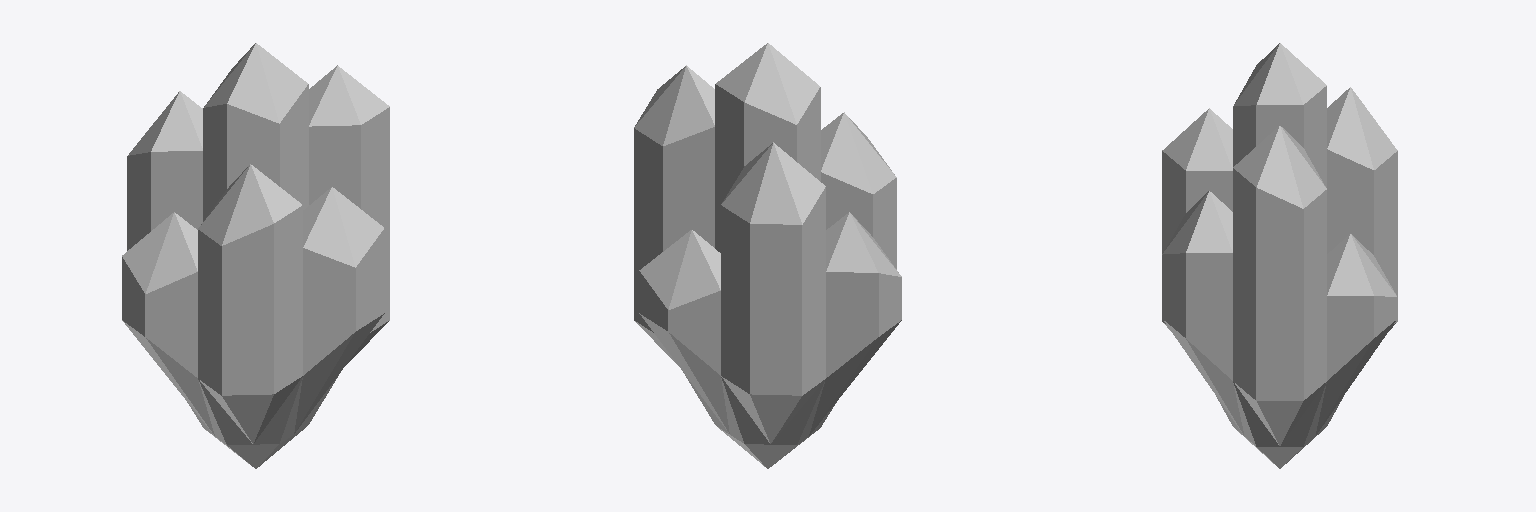
The model's file is Boss Core.obj.
The picture shows the model from 3 angles: view 1: azimuth 30°, elevation 25°; view 2: azimuth 150°, elevation 25°; view 3: azimuth 270°, elevation 25°; orthographic projection.
Visible parts, largest first — view 1: Cube.001_Cube.003; view 2: Cube.001_Cube.003; view 3: Cube.001_Cube.003.
Boxes of the visible parts, <box> form: Cube.001_Cube.003: <box>122,43,389,468</box>; Cube.001_Cube.003: <box>634,43,901,468</box>; Cube.001_Cube.003: <box>1162,43,1397,468</box>.
Size of the model in its own units: 3 by 5 by 2.5.